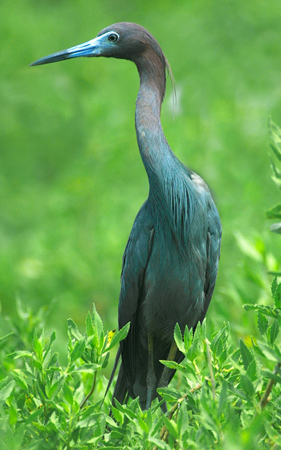heron: (24, 20, 224, 411)
